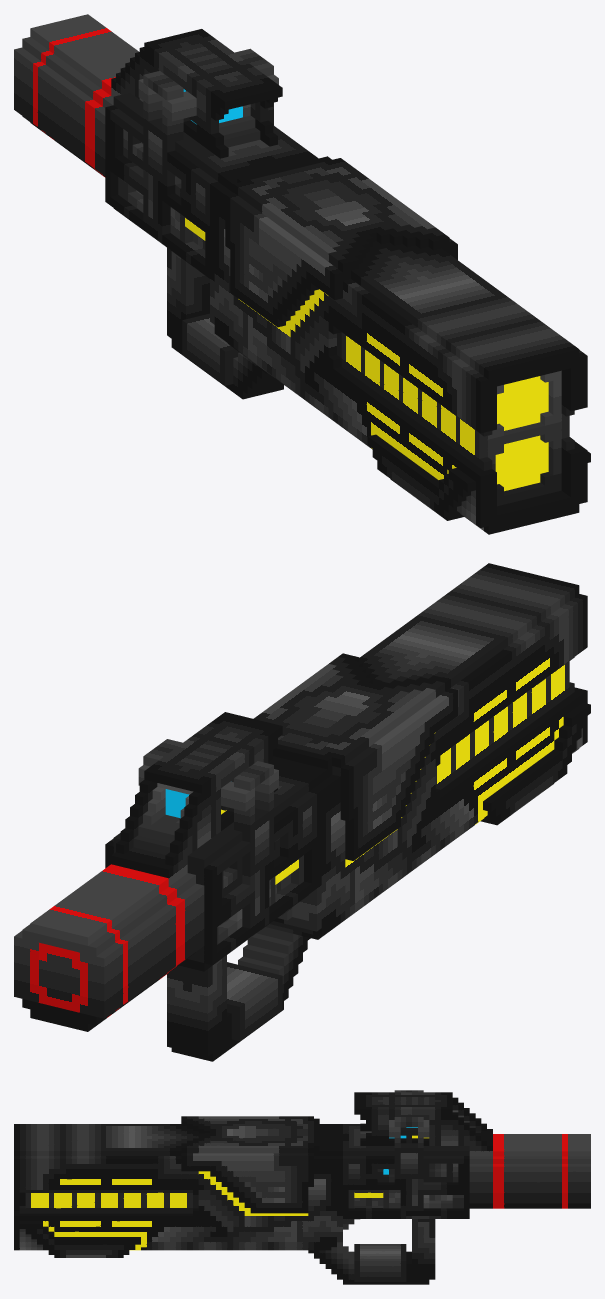
The model's file is 帝国重炮.gltf.
3 renders of one model, top to bottom at view 1: azimuth 30°, elevation 25°; view 2: azimuth 150°, elevation 25°; view 3: azimuth 270°, elevation 25°, orthographic. The views are drawn at different scales.
Parts seen in each view (by area): view 1: Object; view 2: Object; view 3: Object.
Boxes of the visible parts, x1,y1,x2,y2 form: Object: (14,14,590,534); Object: (14,563,590,1061); Object: (14,1090,590,1284).
Bounding box in the file's own units: 15 × 34 × 100.
1 material, 1 textured.
